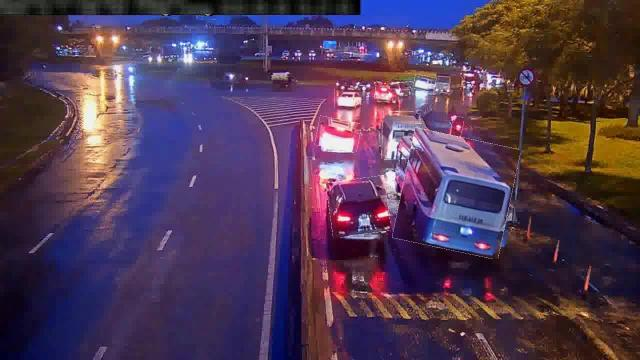Bike: (451, 116, 464, 140)
Bus: (396, 133, 516, 255), (382, 112, 416, 160)
Car: (327, 178, 389, 236), (316, 118, 360, 150), (335, 88, 363, 108), (375, 86, 399, 102), (413, 75, 435, 91), (391, 82, 414, 90)
